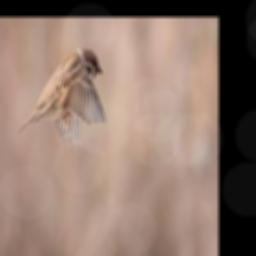Sparrow: (17, 47, 106, 148)
